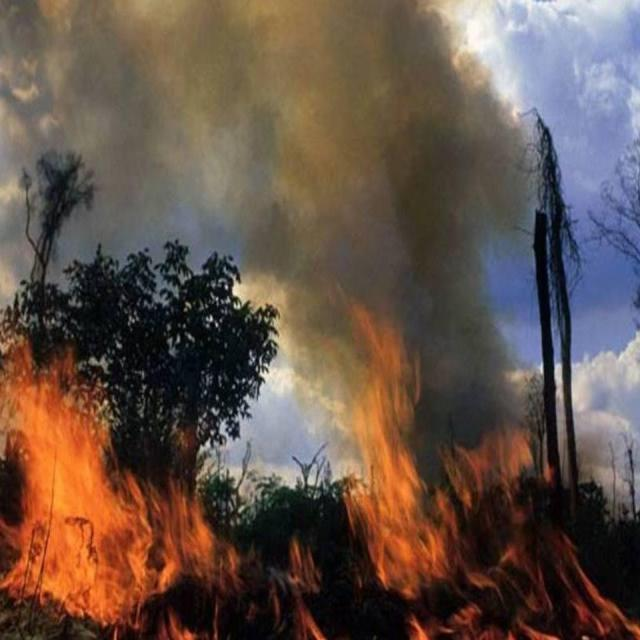Fire: (1, 296, 640, 640)
Smoke: (1, 1, 538, 508)
